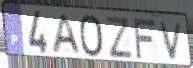4: (27, 9, 49, 56)
A: (50, 14, 83, 56)
F: (132, 17, 157, 60)
O: (78, 14, 106, 59)
V: (159, 21, 185, 62)
Z: (103, 15, 134, 59)
